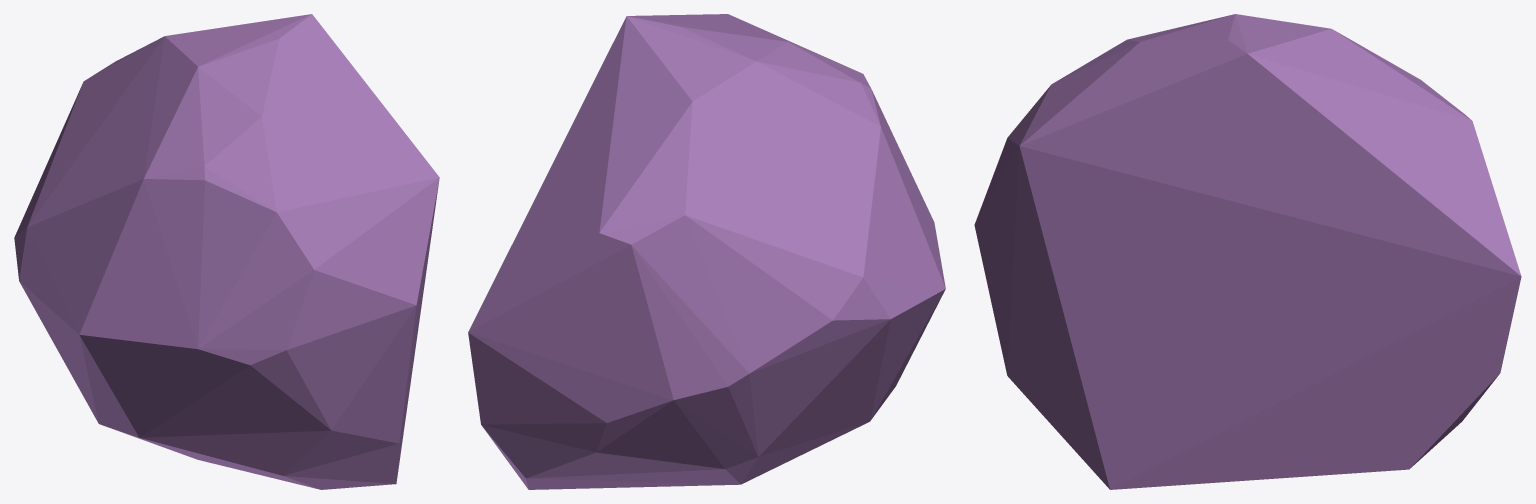
File: food_produce_kiwi_a02.glb
3 views of the same model, side by side, from view 1: azimuth 30°, elevation 25°; view 2: azimuth 150°, elevation 25°; view 3: azimuth 270°, elevation 25° (orthographic). The views are drawn at different scales.
Parts seen in each view (by area): view 1: geometry_0; view 2: geometry_0; view 3: geometry_0.
Boxes of the visible parts, x1,y1,x2,y2 form: geometry_0: (14, 14, 439, 489); geometry_0: (468, 14, 945, 489); geometry_0: (974, 14, 1521, 489).
Size of the model in its own units: 0.2938 by 0.4144 by 0.471.
